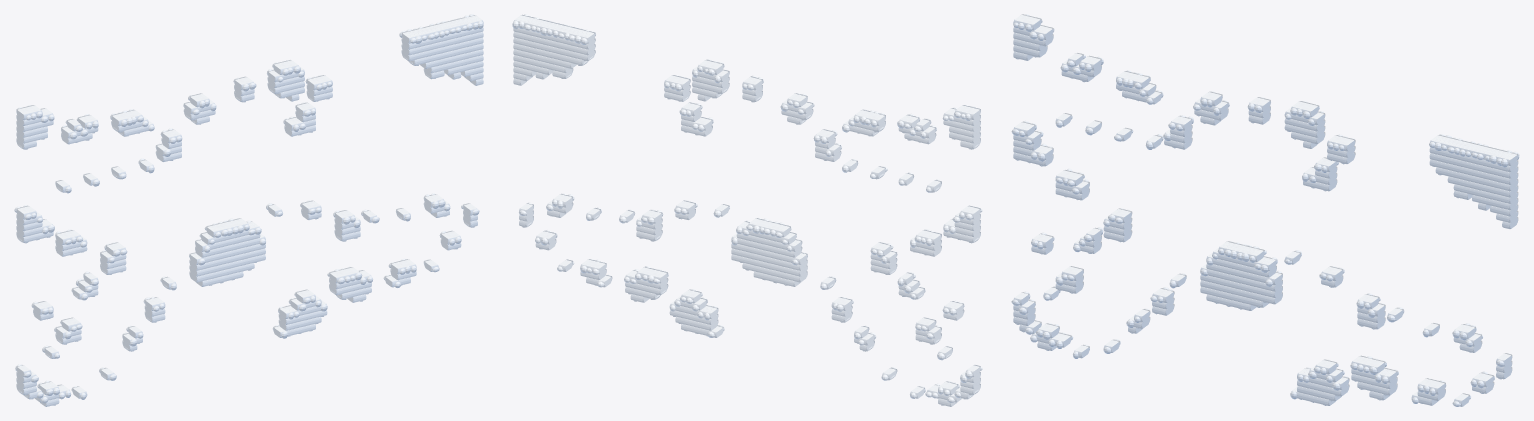
File: Luna0FluttershyNuvens3D.glb
The picture shows the model from 3 angles, left to right: view 1: azimuth 30°, elevation 25°; view 2: azimuth 150°, elevation 25°; view 3: azimuth 330°, elevation 25°; orthographic projection. The views are drawn at different scales.
Parts seen in each view (by area): view 1: Setor_9, Setor_4, Setor_0, Setor_6, Setor_1, Setor_2, Setor_5, Setor_7, Setor_3, Setor_8, Setor_-1, Setor_10; view 2: Setor_9, Setor_4, Setor_0, Setor_6, Setor_1, Setor_2, Setor_5, Setor_7, Setor_3, Setor_8, Setor_-1, Setor_10; view 3: Setor_9, Setor_0, Setor_4, Setor_6, Setor_1, Setor_2, Setor_7, Setor_5, Setor_3, Setor_10, Setor_8.
Boxes of the visible parts, box(x1,y1,x2,y2) form: Setor_9: box(402, 15, 483, 272); Setor_4: box(184, 77, 265, 286); Setor_0: box(16, 105, 71, 406); Setor_6: box(274, 60, 338, 336); Setor_1: box(56, 114, 116, 399); Setor_2: box(101, 109, 159, 376); Setor_5: box(234, 60, 304, 338); Setor_7: box(329, 209, 379, 302); Setor_3: box(145, 95, 205, 322); Setor_8: box(383, 28, 427, 287); Setor_-1: box(14, 109, 27, 394); Setor_10: box(462, 14, 483, 227); Setor_9: box(513, 14, 594, 271); Setor_4: box(731, 77, 812, 286); Setor_0: box(925, 105, 981, 406); Setor_6: box(657, 59, 722, 337); Setor_1: box(880, 113, 940, 398); Setor_2: box(836, 109, 896, 373); Setor_5: box(692, 60, 762, 337); Setor_7: box(619, 209, 667, 302); Setor_3: box(792, 94, 851, 321); Setor_8: box(568, 28, 612, 287); Setor_-1: box(969, 109, 982, 394); Setor_10: box(512, 14, 533, 227); Setor_9: box(1429, 135, 1517, 406); Setor_0: box(1012, 14, 1072, 350); Setor_4: box(1194, 91, 1282, 310); Setor_6: box(1291, 104, 1359, 405); Setor_1: box(1055, 53, 1120, 358); Setor_2: box(1103, 70, 1168, 353); Setor_7: box(1350, 293, 1404, 400); Setor_5: box(1248, 97, 1324, 399); Setor_3: box(1152, 91, 1214, 315); Setor_10: box(1490, 150, 1519, 379); Setor_8: box(1411, 134, 1457, 405).
Size of the model in its own units: 85.74 by 53.46 by 4.16.
1 material, 1 textured.
